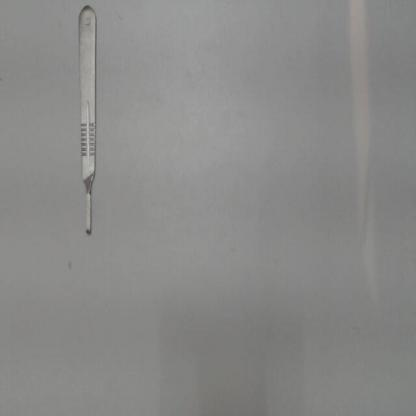No.4 BP Handle: (70, 1, 102, 242)
